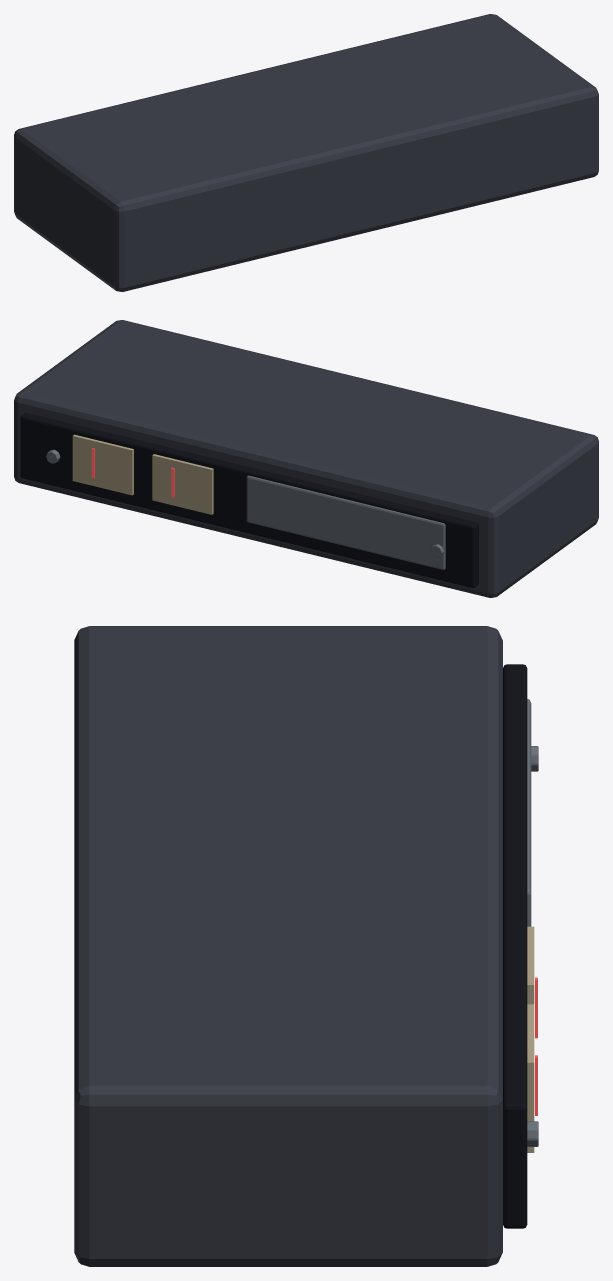
The model's file is cassette_deck_rack_meter.glb.
The picture shows the model from 3 angles, top to bottom: view 1: azimuth 30°, elevation 25°; view 2: azimuth 150°, elevation 25°; view 3: azimuth 270°, elevation 25°; orthographic projection. The views are drawn at different scales.
Visible parts, largest first — view 1: cassette_deck_rack_meter; view 2: cassette_deck_rack_meter; view 3: cassette_deck_rack_meter.
Boxes of the visible parts, box(x1,y1,x2,y2) form: cassette_deck_rack_meter: box(14, 14, 598, 291); cassette_deck_rack_meter: box(14, 320, 598, 597); cassette_deck_rack_meter: box(74, 626, 538, 1266).
Size of the model in its own units: 0.73 by 0.13 by 0.3035.
